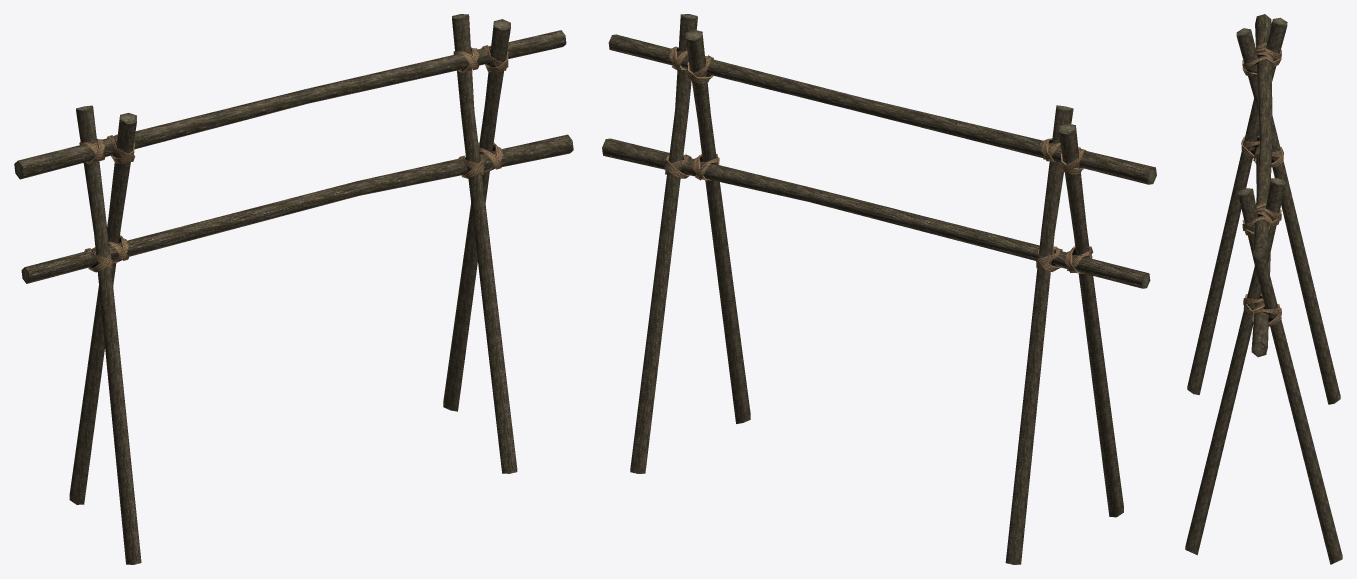
Rendered from thm_dant_fence_4m_l0.fbx.
The picture shows the model from 3 angles, left to right: view 1: azimuth 30°, elevation 25°; view 2: azimuth 150°, elevation 25°; view 3: azimuth 270°, elevation 25°; orthographic projection. The views are drawn at different scales.
Visible parts, largest first — view 1: mesh_node; view 2: mesh_node; view 3: mesh_node.
Boxes of the visible parts, bbox=[...] form: mesh_node: bbox=[14, 14, 573, 564]; mesh_node: bbox=[602, 14, 1156, 564]; mesh_node: bbox=[1185, 14, 1342, 564].
Size of the model in its own units: 3.97 by 2.95 by 1.13.
